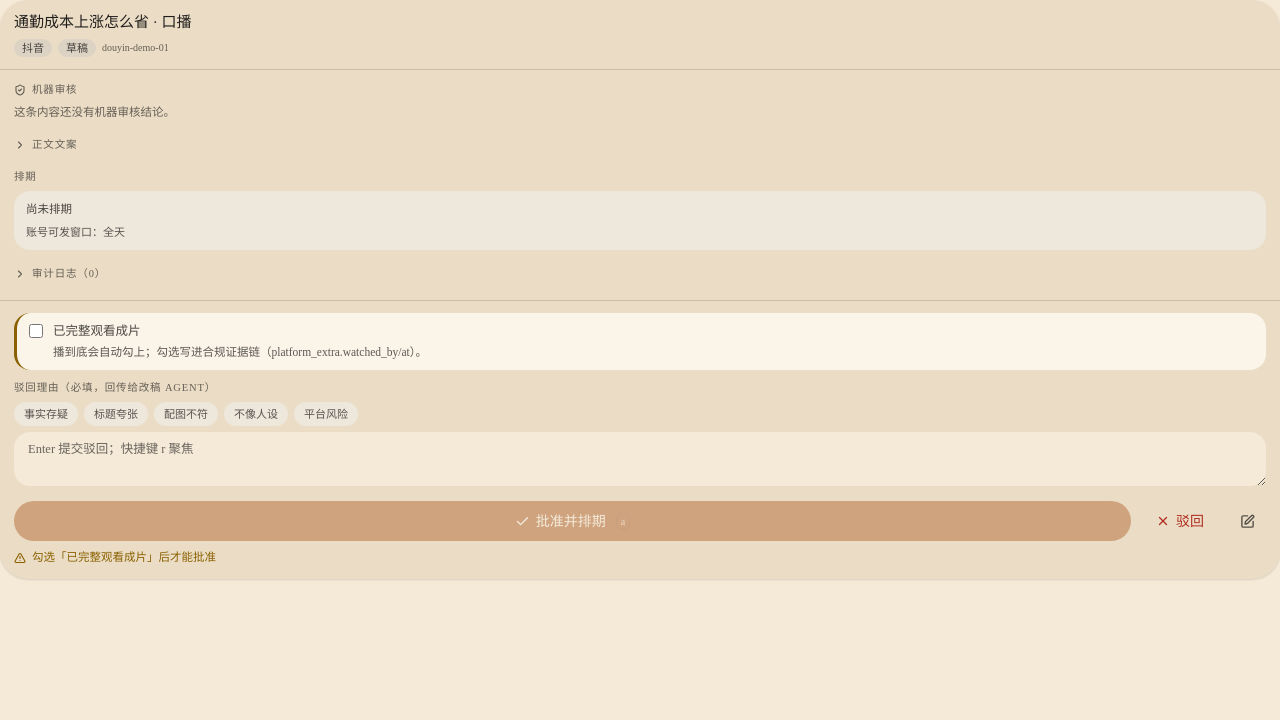
决策栏 · 常用驳回理由药丸（P14.B4：点一下填入，可续写） › 空理由框点一下药丸，直接填入那句理由并聚焦
Click the button with test id "reject-reason-preset-标题夸张". click: point(116, 414)
box: [84, 402, 148, 426]
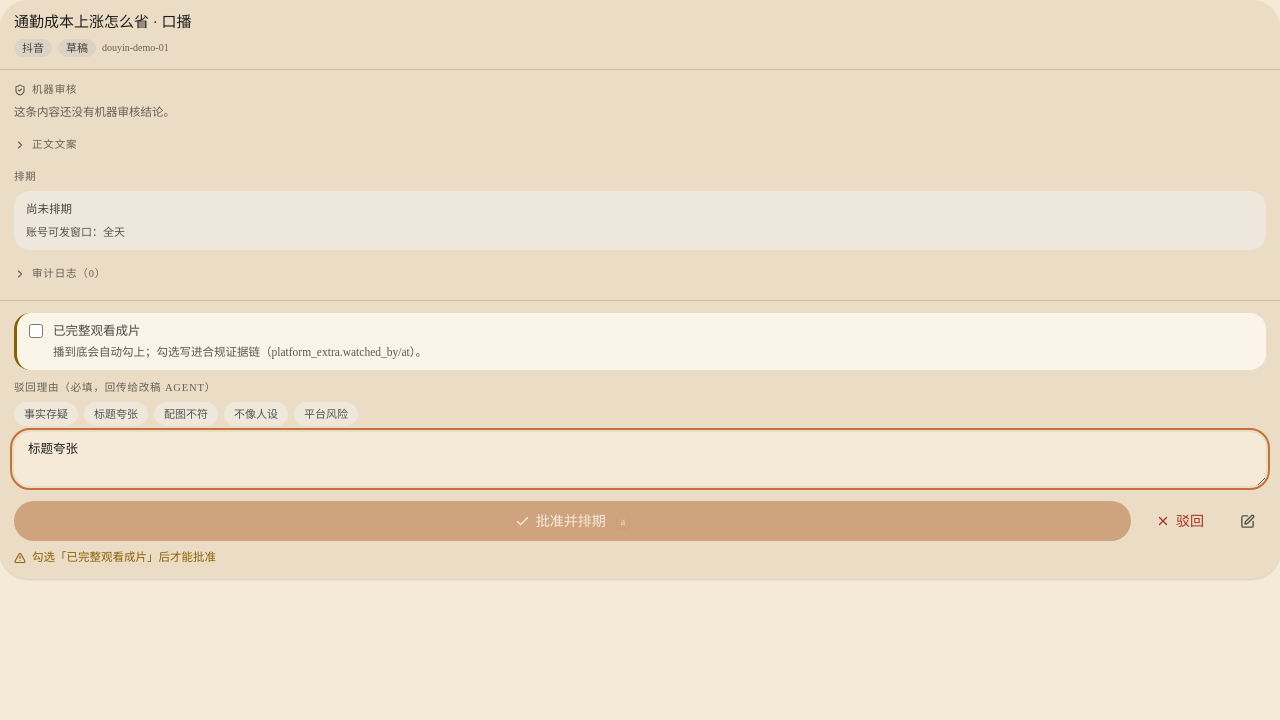
Check: the text box with test id "reject-reason" holds "标题夸张", box [14, 432, 1266, 486]
